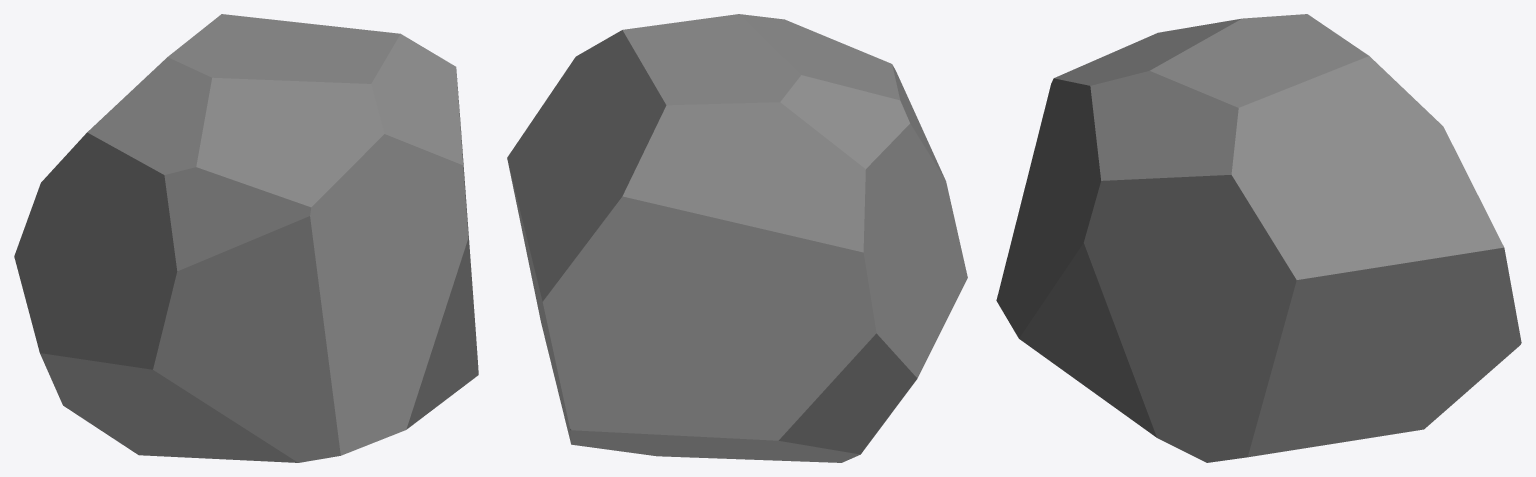
The model's file is Rock5.fbx.
The picture shows the model from 3 angles, left to right: view 1: azimuth 30°, elevation 25°; view 2: azimuth 150°, elevation 25°; view 3: azimuth 270°, elevation 25°; orthographic projection. The views are drawn at different scales.
Visible parts, largest first — view 1: Cube.002; view 2: Cube.002; view 3: Cube.002.
Part boxes in pixels (bbox=[...]): Cube.002: bbox=[14, 14, 478, 462]; Cube.002: bbox=[507, 14, 967, 462]; Cube.002: bbox=[996, 14, 1521, 462].
Size of the model in its own units: 2540 by 2208 by 2795.
